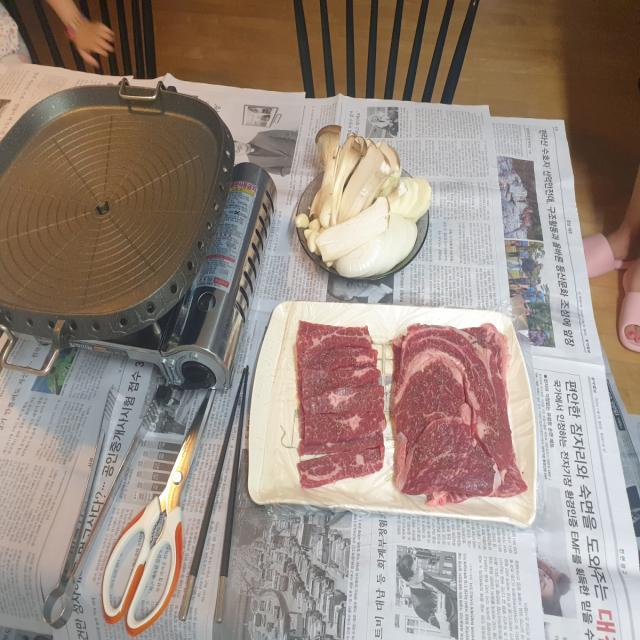pork: (244, 267, 539, 534)
